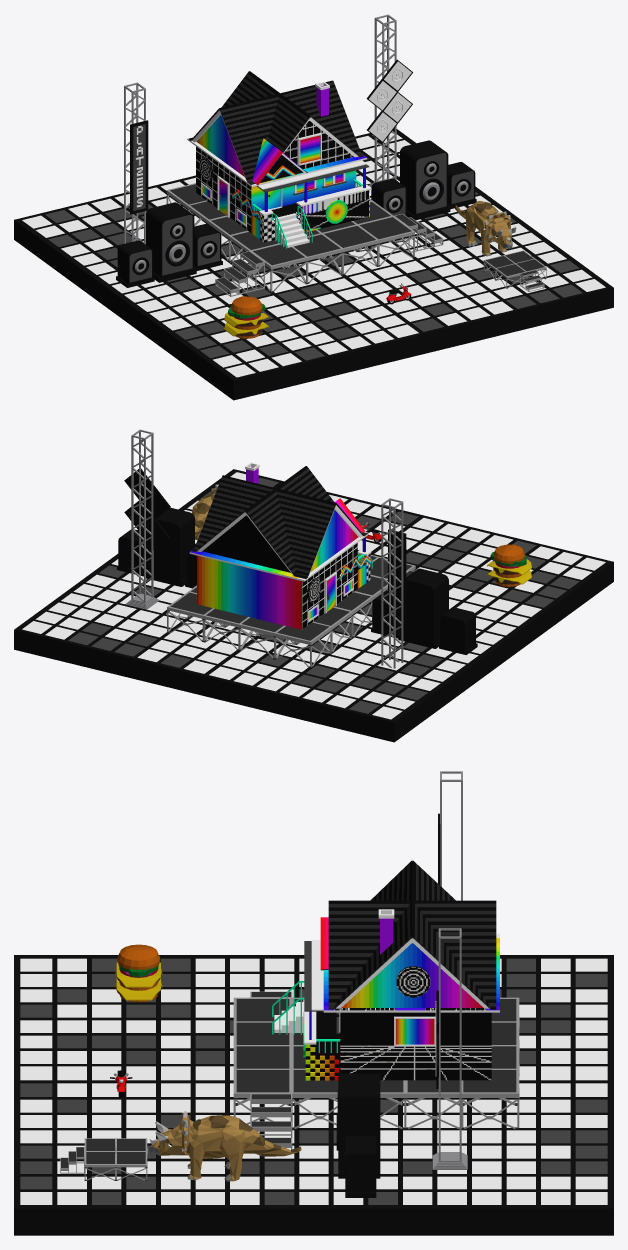
The picture shows the model from 3 angles, top to bottom: view 1: azimuth 30°, elevation 25°; view 2: azimuth 150°, elevation 25°; view 3: azimuth 270°, elevation 25°; orthographic projection. The views are drawn at different scales.
Parts seen in each view (by area): view 1: Cube.008, Cube.1320, ANIMAL_Triceratops, OBJRANDOM_HAMBURGER; view 2: Cube.008, Cube.1320, OBJRANDOM_HAMBURGER, ANIMAL_Triceratops; view 3: Cube.008, Cube.1320, ANIMAL_Triceratops, OBJRANDOM_HAMBURGER.
Part boxes in pixels (box(x1,y1,x2,y2)): Cube.008: box(14, 14, 613, 400); Cube.1320: box(187, 71, 371, 248); ANIMAL_Triceratops: box(455, 201, 516, 256); OBJRANDOM_HAMBURGER: box(224, 296, 269, 338); Cube.008: box(14, 429, 613, 742); Cube.1320: box(189, 462, 372, 629); OBJRANDOM_HAMBURGER: box(487, 544, 531, 586); ANIMAL_Triceratops: box(192, 484, 218, 539); Cube.008: box(14, 771, 613, 1235); Cube.1320: box(272, 860, 499, 1080); ANIMAL_Triceratops: box(148, 1111, 301, 1181); OBJRANDOM_HAMBURGER: box(115, 944, 162, 1002).
Bounding box in the file's own units: 4000 × 1975 × 4000.
Materials: 38 (3 with a texture image).
